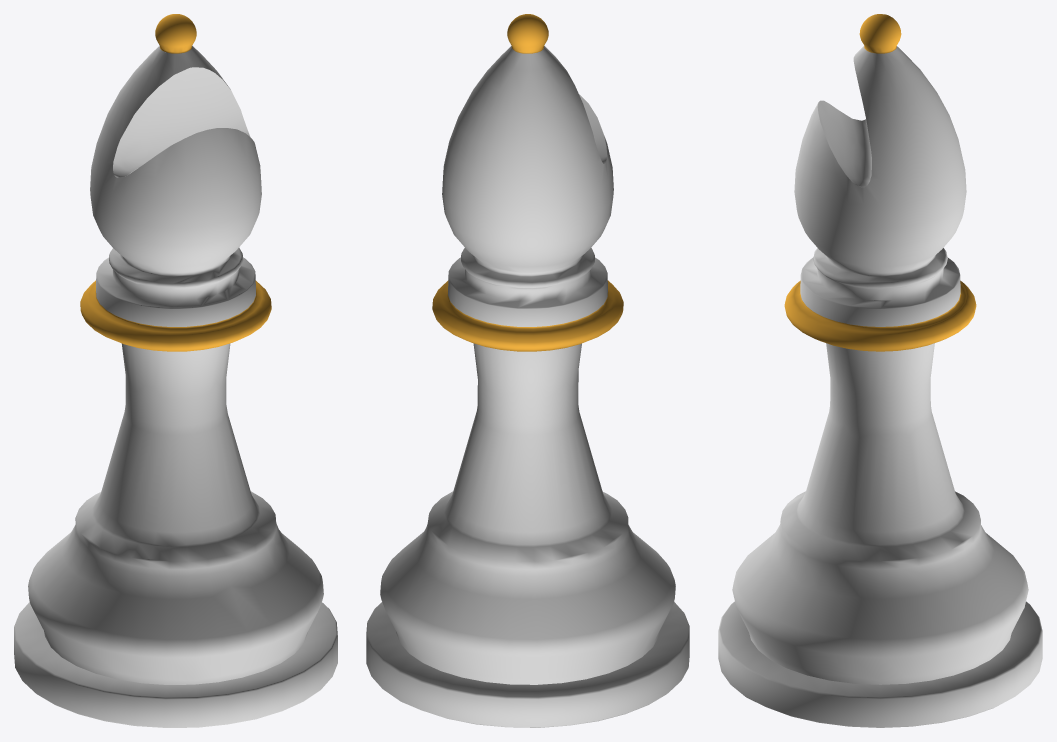
File: gercek6_b_w.glb
3 renders of one model, left to right at view 1: azimuth 30°, elevation 25°; view 2: azimuth 150°, elevation 25°; view 3: azimuth 270°, elevation 25°, orthographic.
Visible parts, largest first — view 1: b_w_0, b_w_1; view 2: b_w_0, b_w_1; view 3: b_w_0, b_w_1.
Boxes of the visible parts, x1,y1,x2,y2 form: b_w_0: (14,45,337,727); b_w_1: (80,14,271,351); b_w_0: (366,45,689,727); b_w_1: (432,14,623,351); b_w_0: (718,46,1042,727); b_w_1: (784,14,976,351).
Bounding box in the file's own units: 0.4102 × 0.8997 × 0.4102.
